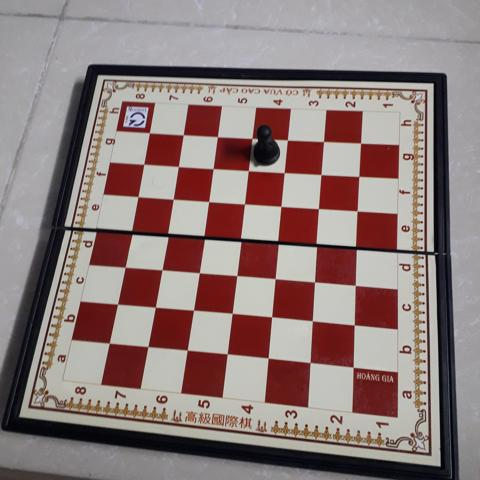xcorner: (102, 335, 116, 349), (141, 339, 155, 353), (180, 343, 194, 357), (220, 347, 234, 361), (261, 351, 275, 365), (303, 355, 317, 369), (346, 359, 360, 373), (110, 296, 124, 310), (148, 299, 162, 313), (186, 302, 200, 316), (225, 306, 239, 320), (265, 309, 279, 323), (306, 313, 320, 327), (347, 317, 361, 331), (117, 258, 131, 272), (154, 261, 168, 275), (191, 264, 205, 278), (230, 267, 244, 281), (268, 270, 282, 284), (308, 273, 322, 287), (349, 276, 363, 290), (124, 223, 138, 237), (160, 225, 174, 239), (197, 227, 211, 241), (234, 230, 248, 244), (272, 233, 286, 247), (311, 235, 325, 249), (350, 238, 364, 252), (131, 189, 145, 203), (166, 191, 180, 205), (202, 193, 216, 207), (238, 195, 252, 209), (275, 197, 289, 211), (313, 199, 327, 213), (137, 156, 151, 170), (171, 158, 185, 172), (206, 160, 220, 174), (242, 161, 256, 175), (278, 163, 292, 177), (315, 165, 329, 179), (353, 167, 367, 181), (143, 125, 157, 139), (177, 127, 191, 141), (211, 128, 225, 142), (246, 129, 260, 143), (281, 131, 295, 145), (317, 132, 331, 146), (354, 134, 368, 148), (352, 202, 365, 216)
